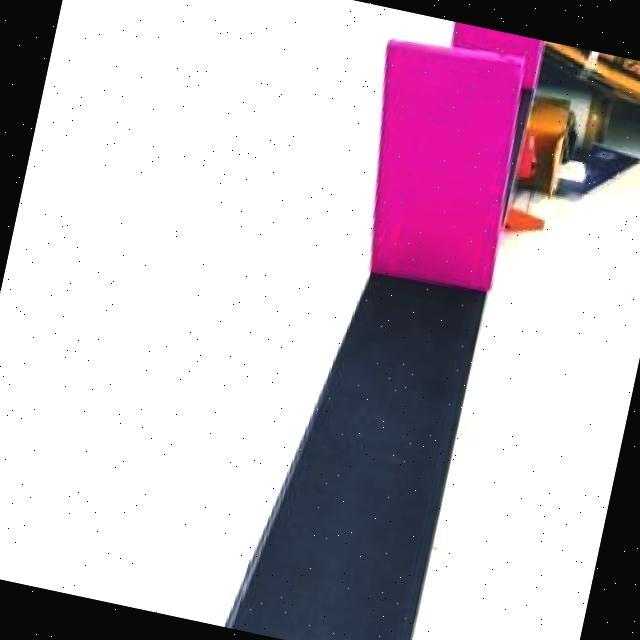xparking: (364, 38, 529, 295)
